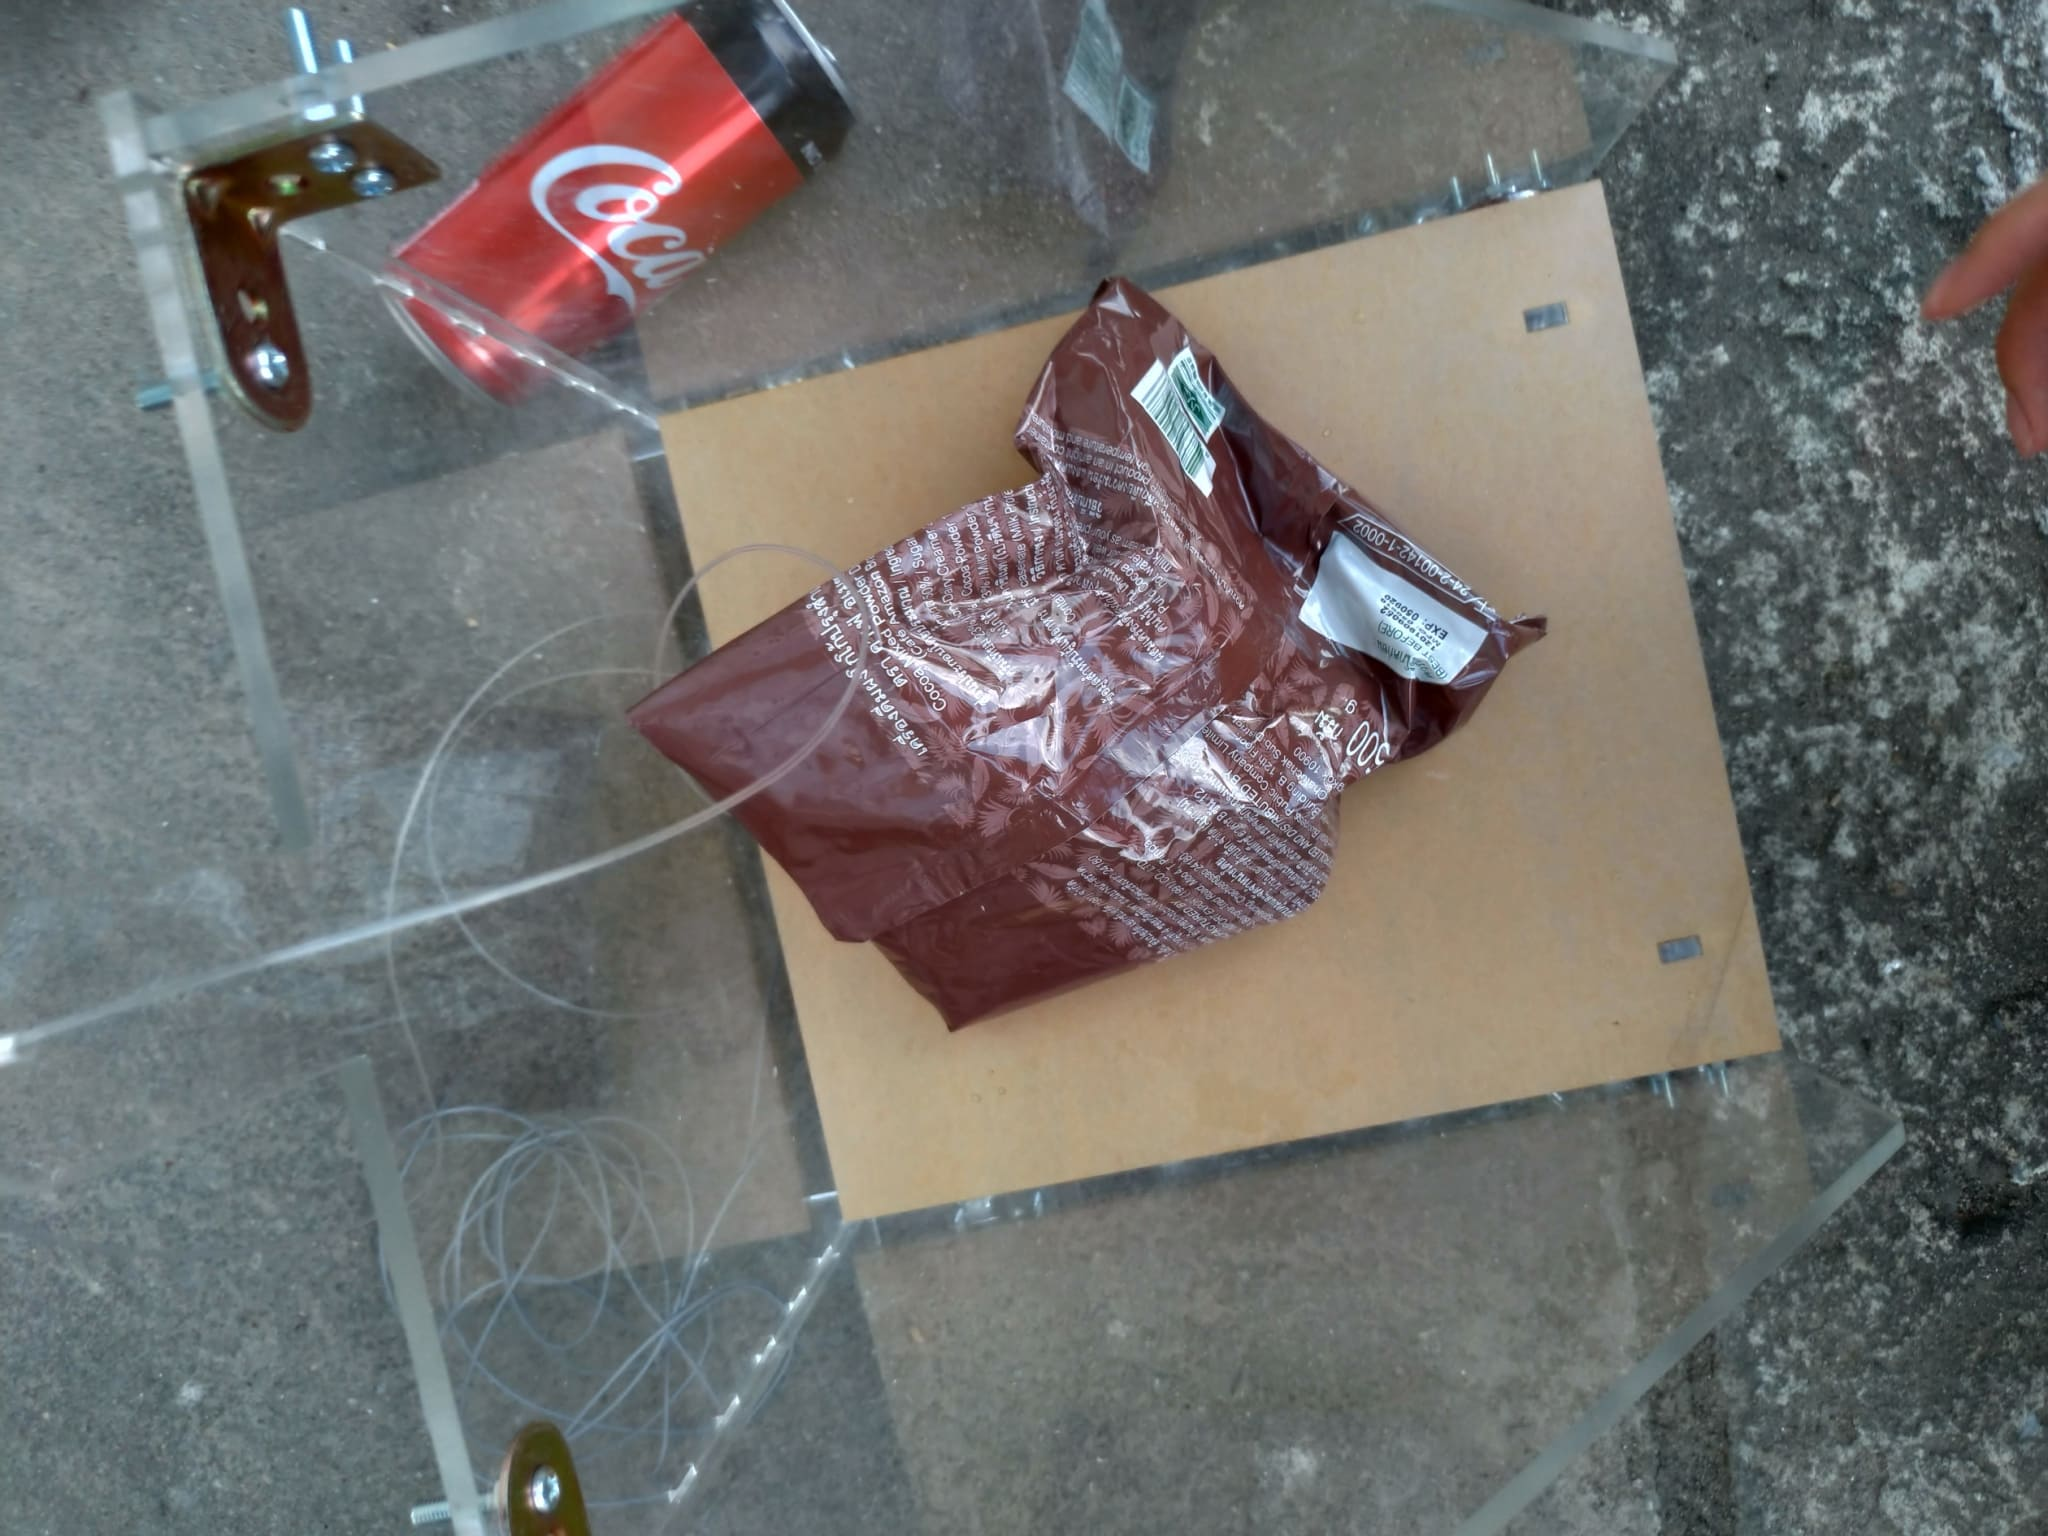AlCan: (385, 2, 847, 403)
Others: (619, 290, 1526, 1033)
